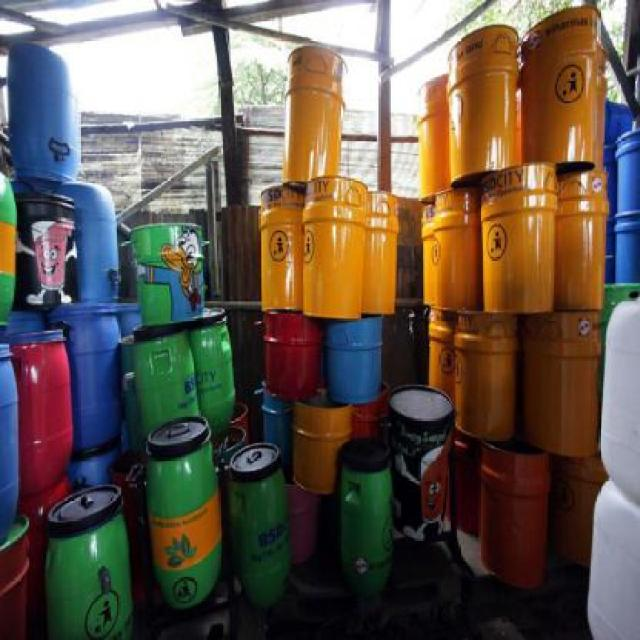garbage container: (142, 414, 228, 612), (520, 5, 608, 167), (43, 478, 129, 639), (442, 23, 522, 185), (472, 442, 550, 592), (223, 437, 288, 615), (5, 40, 78, 186), (298, 178, 370, 322), (335, 435, 396, 603), (281, 42, 353, 184)
